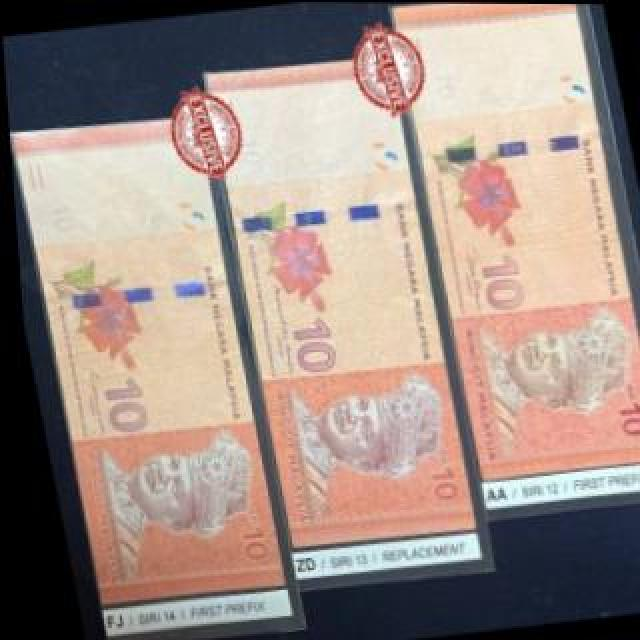10 Ringgit: (192, 44, 480, 558), (6, 106, 283, 611), (392, 2, 640, 497)
